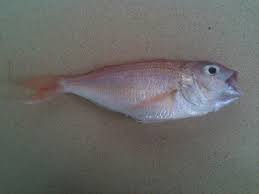Ikan Kerisi: (22, 59, 243, 123)
